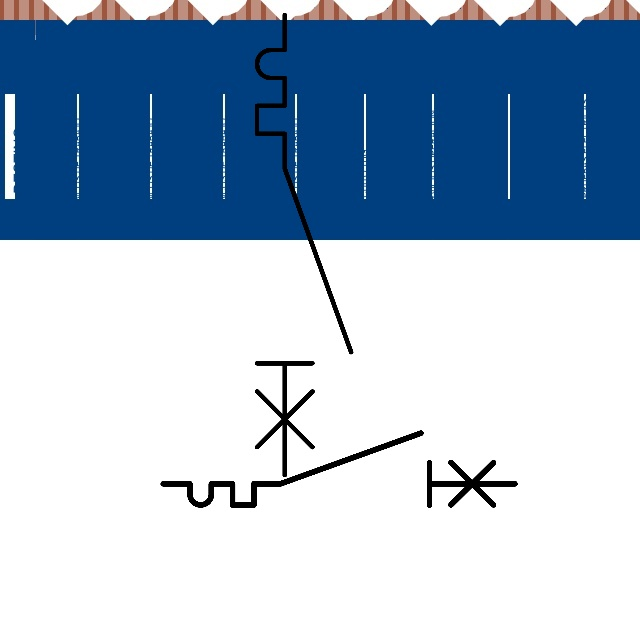interruptor_termomagnetico: (245, 3, 363, 487), (154, 424, 524, 514)
